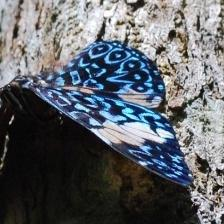butterfly: (14, 40, 194, 187)
